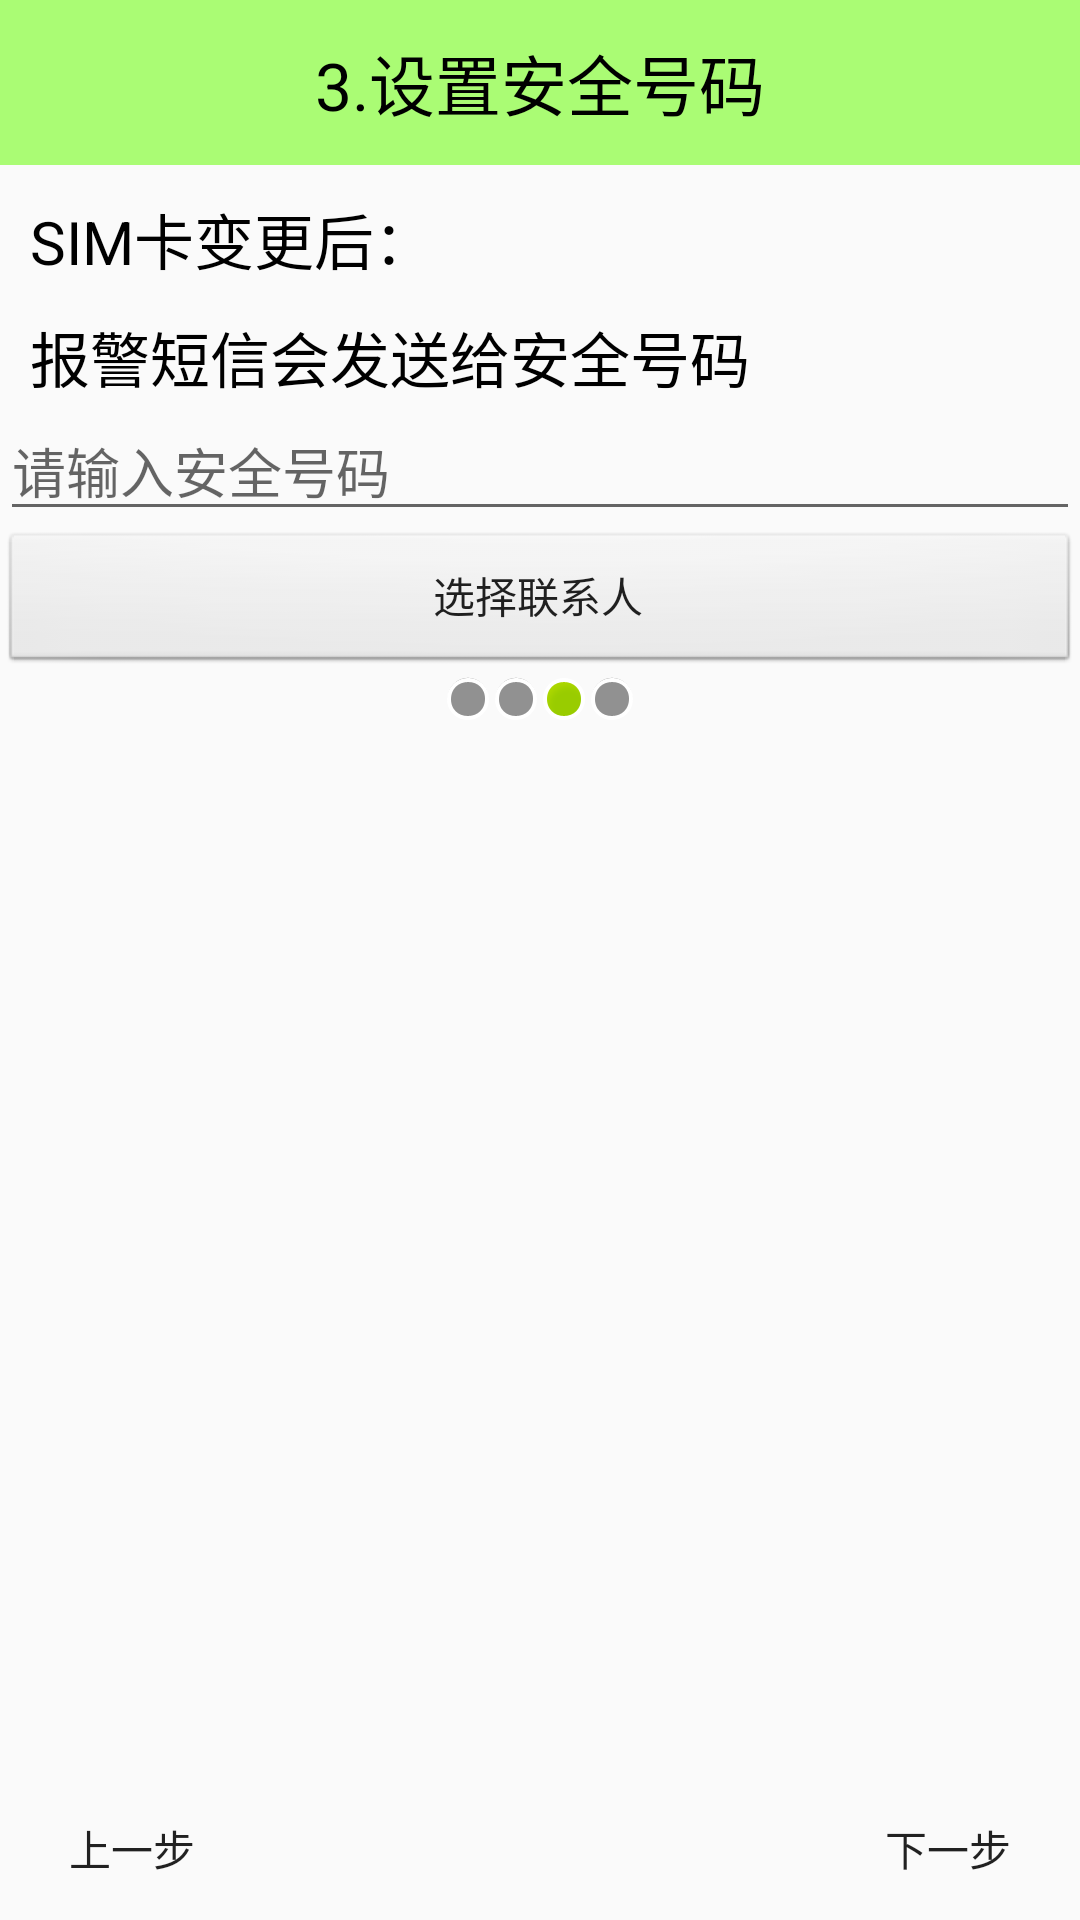

Named icons in this screenshot (1080w x 1920h) and their centers, (x=x, y=y):
presence invisible: (x=468, y=697), (x=516, y=697), (x=612, y=697)
